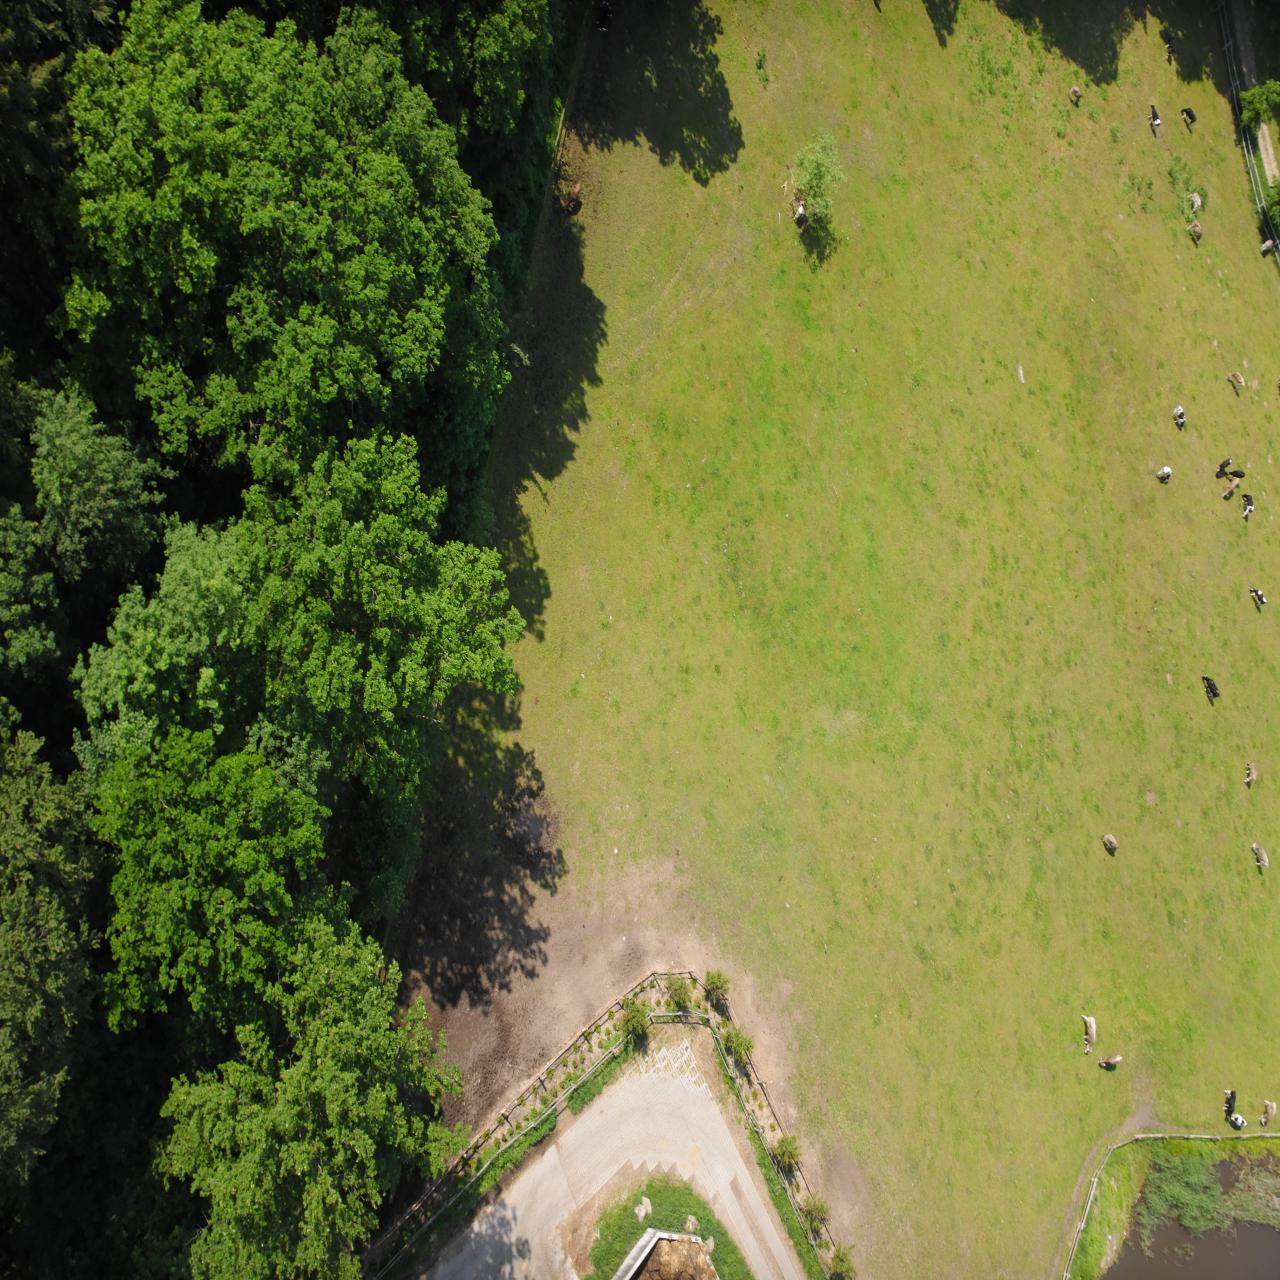cow: (184, 224, 198, 266), (11, 411, 29, 437), (43, 158, 57, 190), (77, 1035, 94, 1062), (4, 155, 20, 179), (61, 581, 77, 606), (118, 1150, 131, 1176), (161, 428, 178, 447), (41, 783, 57, 803), (77, 1067, 91, 1089), (83, 1152, 98, 1172), (157, 212, 183, 224), (198, 1175, 212, 1196), (26, 762, 38, 785), (34, 890, 49, 907), (23, 497, 35, 519), (13, 675, 29, 690), (94, 853, 105, 874), (32, 152, 49, 165), (48, 809, 63, 821), (107, 804, 122, 813), (34, 803, 53, 810)
